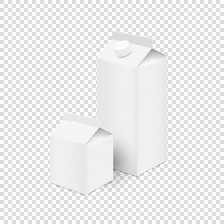carton: (96, 29, 169, 177), (45, 113, 116, 197)
